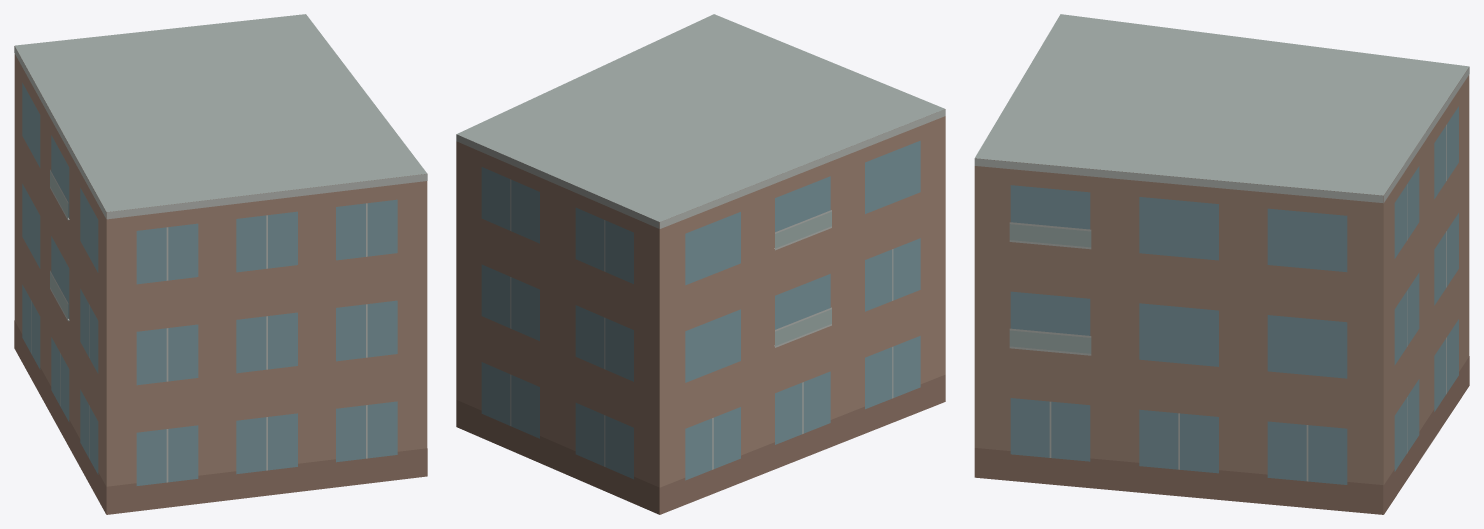
The model's file is survey-upis-32670270.glb.
The picture shows the model from 3 angles, left to right: view 1: azimuth 30°, elevation 25°; view 2: azimuth 150°, elevation 25°; view 3: azimuth 270°, elevation 25°; orthographic projection. The views are drawn at different scales.
Parts seen in each view (by area): view 1: survey-upis-32670270.tmp; view 2: survey-upis-32670270.tmp; view 3: survey-upis-32670270.tmp.
Part boxes in pixels (x1,y1,x2,y2): survey-upis-32670270.tmp: (14, 14, 427, 514); survey-upis-32670270.tmp: (456, 14, 945, 514); survey-upis-32670270.tmp: (974, 14, 1469, 514).
Size of the model in its own units: 12.45 by 10.2 by 14.34.
